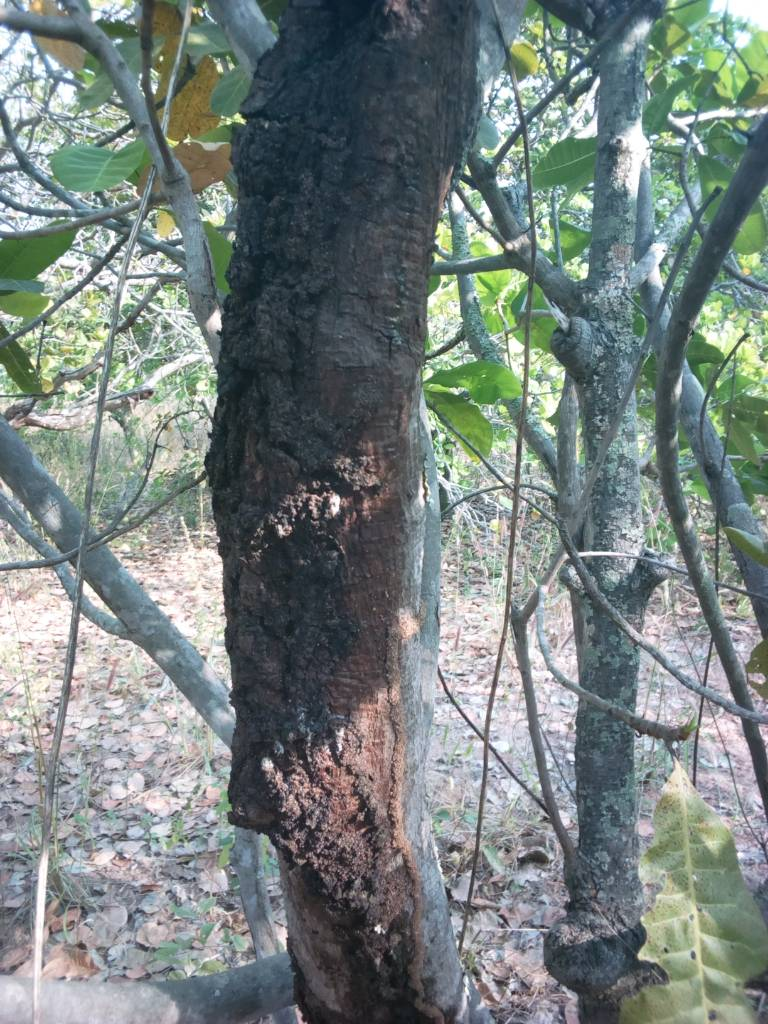Termites: (260, 361, 449, 1014)
